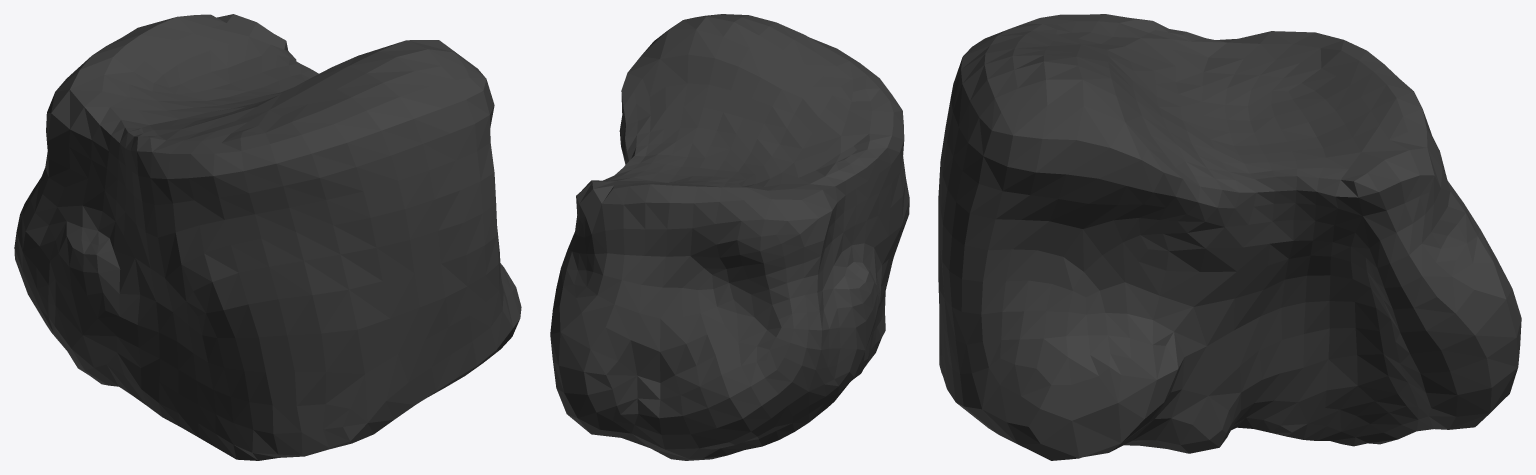
Rendered from Radial_carpal.glb.
3 views of the same model, side by side, from view 1: azimuth 30°, elevation 25°; view 2: azimuth 150°, elevation 25°; view 3: azimuth 270°, elevation 25° (orthographic). The views are drawn at different scales.
Visible parts, largest first — view 1: Radial_carpal; view 2: Radial_carpal; view 3: Radial_carpal.
Part boxes in pixels (x1,y1,x2,y2): Radial_carpal: [14, 14, 521, 460]; Radial_carpal: [550, 14, 909, 460]; Radial_carpal: [938, 14, 1521, 460].
Size of the model in its own units: 36.78 by 37.48 by 46.21.
Materials: 1 (1 with a texture image).
